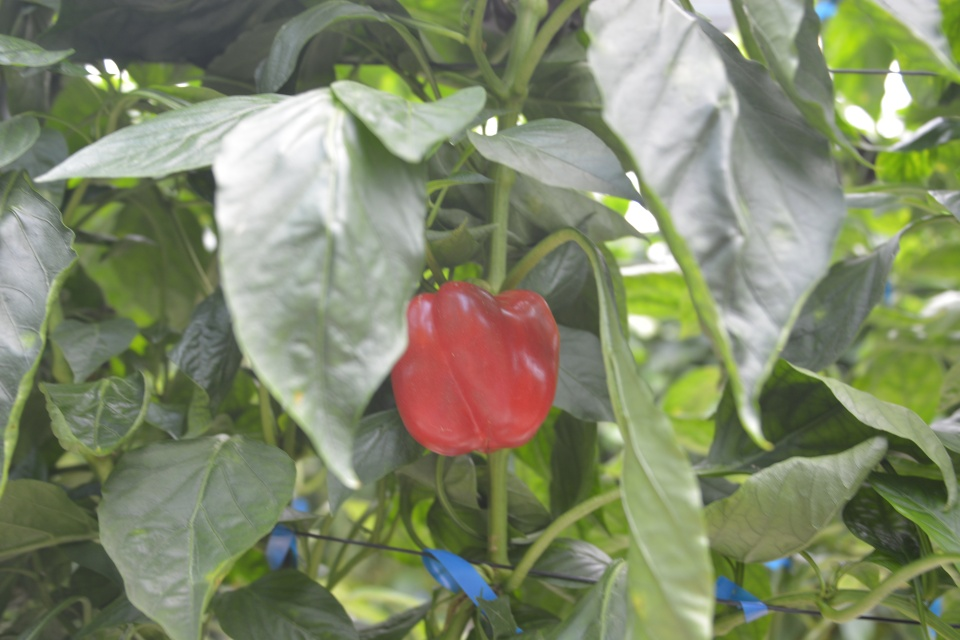fruit: (384, 276, 566, 458)
